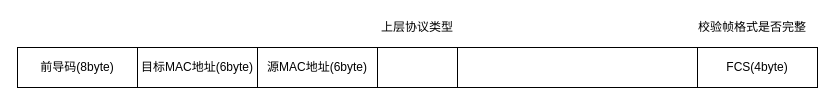
Some shapes in this 835 by 105 pixel diagram are drawn without their labels. Each missing label, with the box of its shape:
数据: (456, 46, 698, 88)
类型(2byte): (376, 46, 458, 88)
